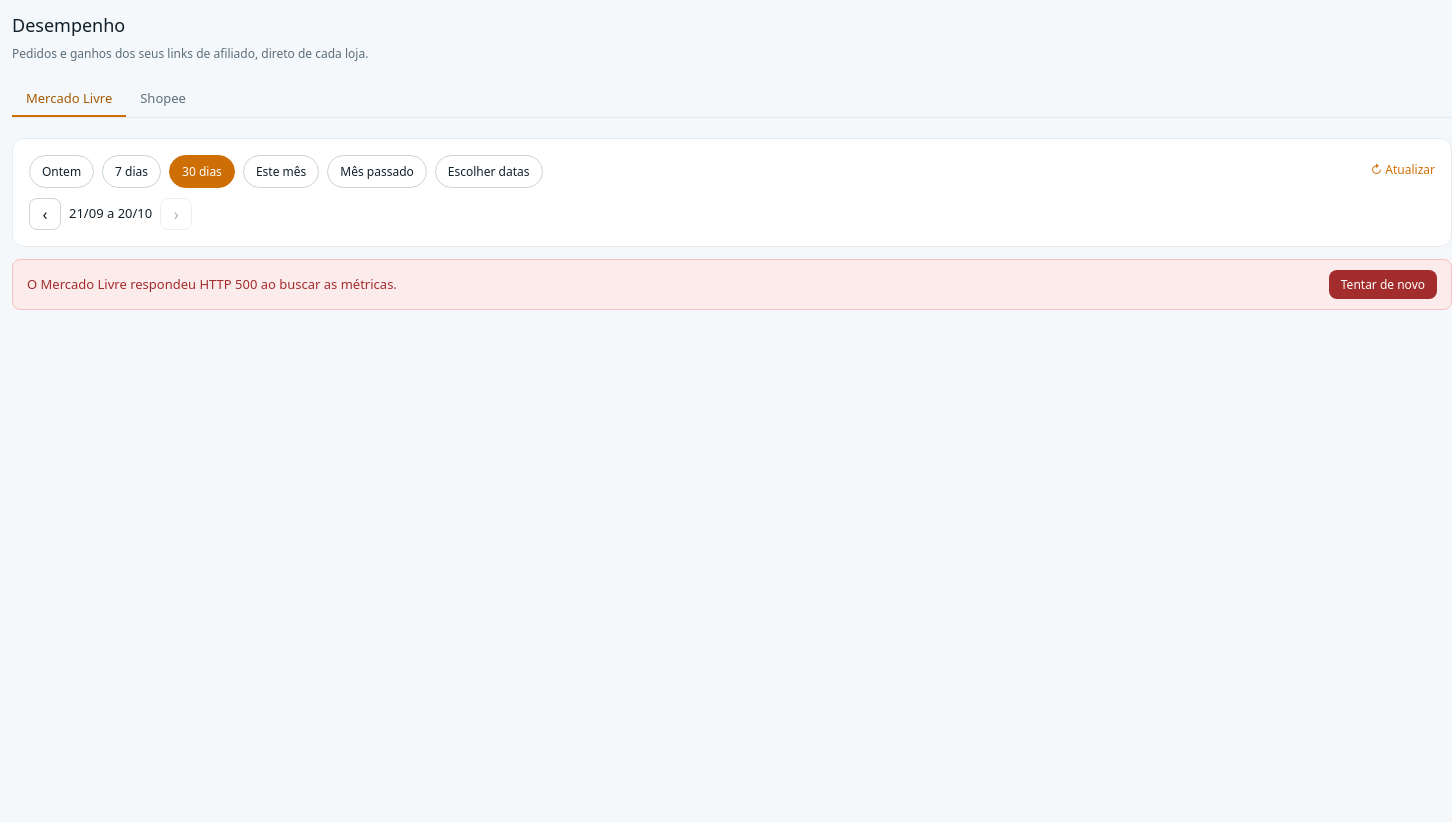
Test case: PageDesempenho › erro do ML oferece tentar de novo
Click the button "Tentar de novo".
click(1383, 284)  # box top-left (1329, 270), bottom-right (1437, 299)
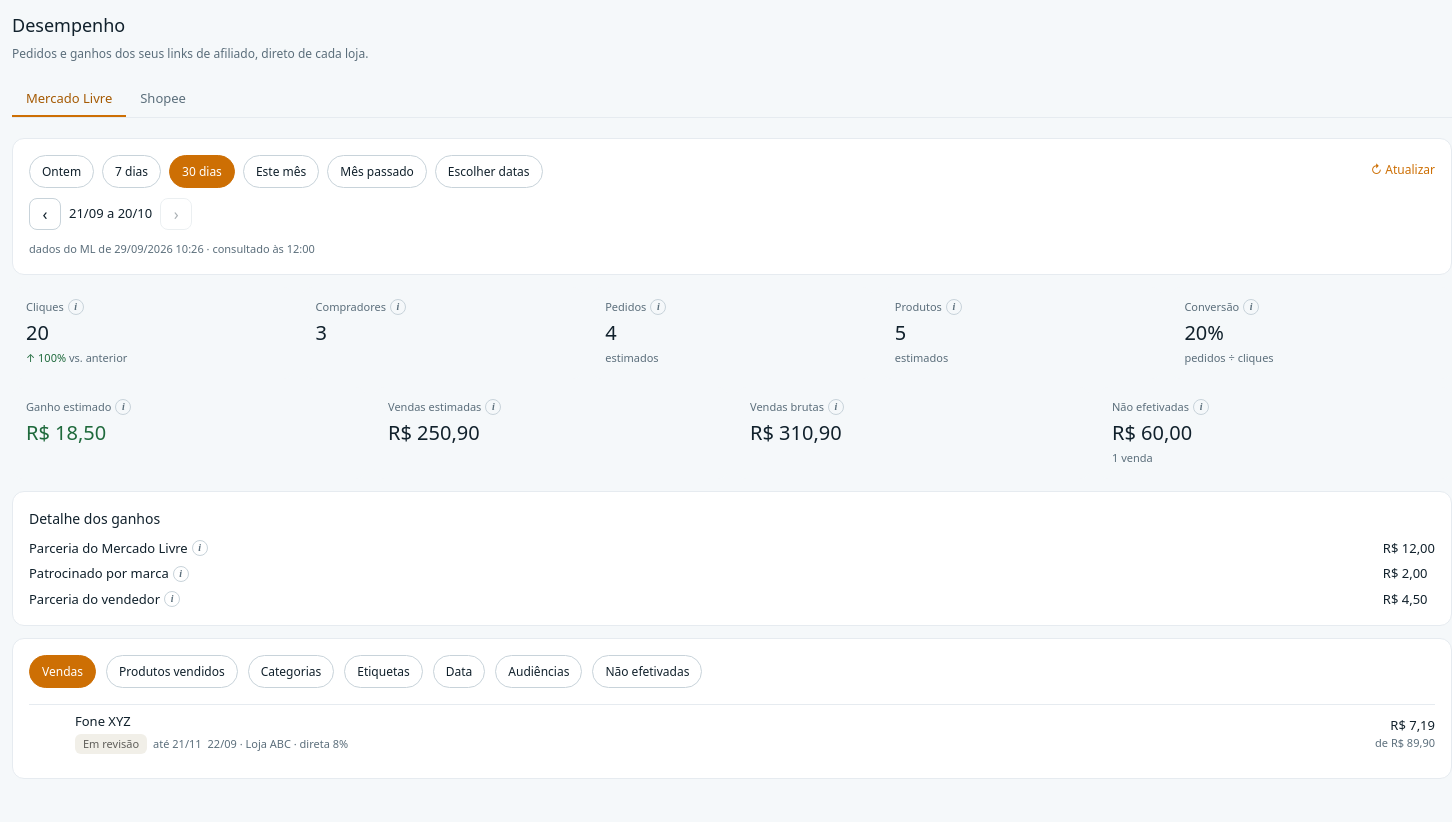
Check: the text "Compradores" is shown, box top-left (316, 299), bottom-right (386, 314)
Check: the text "HTTP 500" is gone
